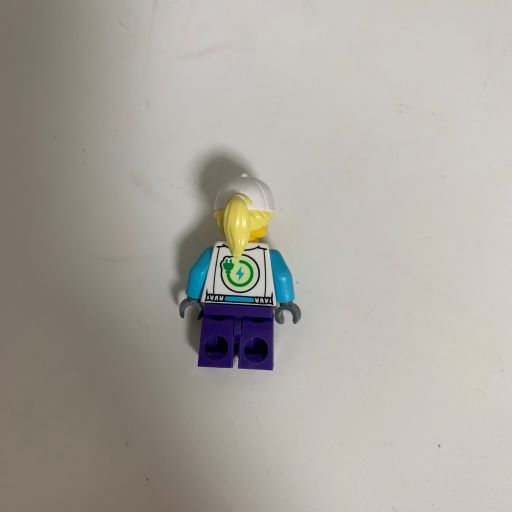human: (163, 167, 311, 382)
